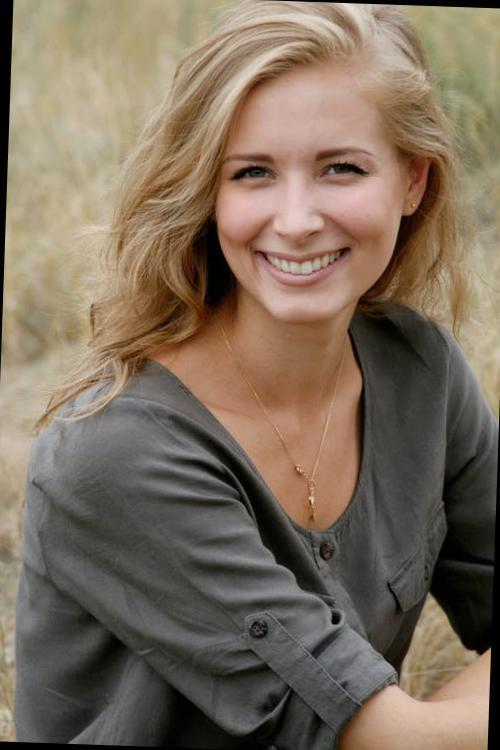Sober: (217, 89, 389, 311)
